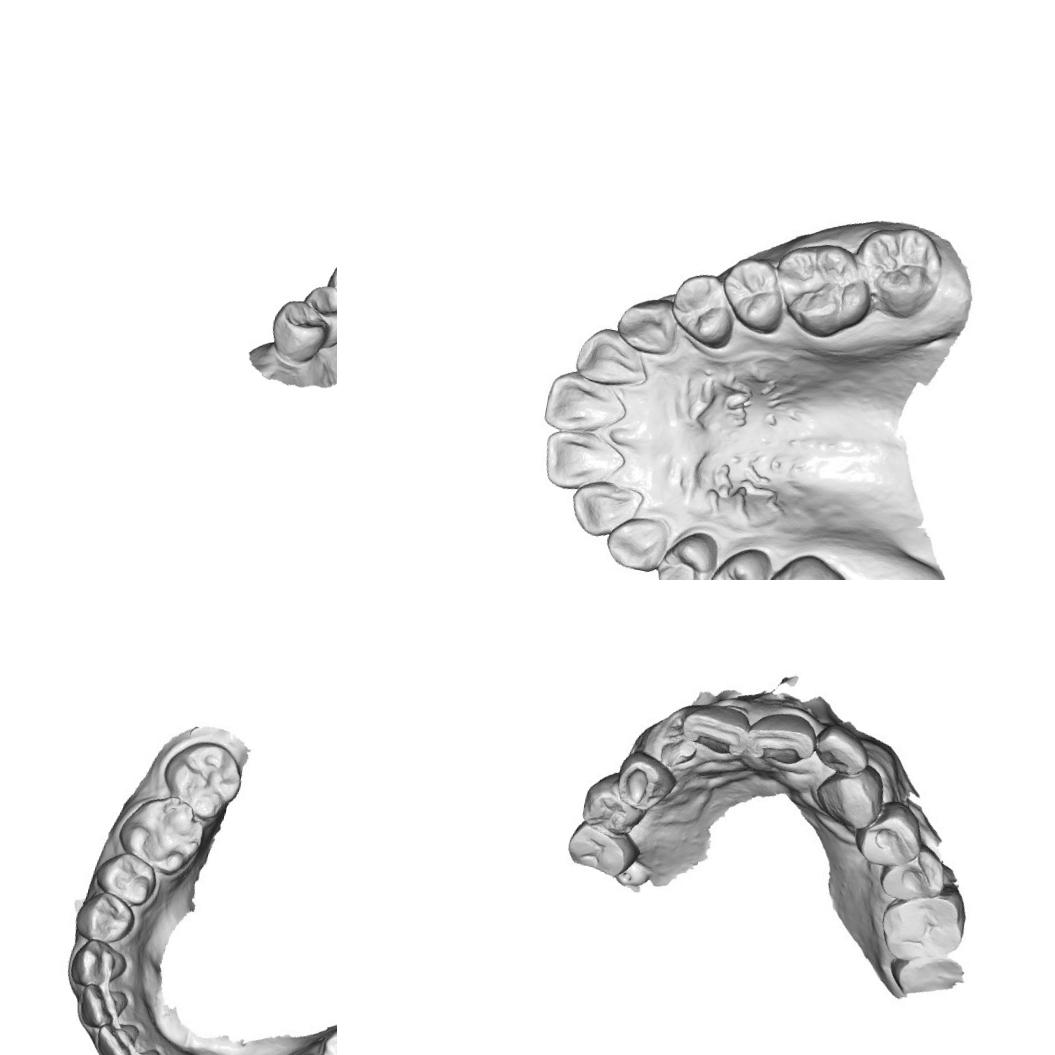canine: (813, 758, 888, 833), (601, 512, 671, 576), (614, 746, 678, 814), (619, 296, 682, 356), (64, 934, 128, 990), (322, 246, 337, 316)
incisor: (540, 426, 628, 488), (544, 376, 628, 440), (565, 478, 639, 544), (578, 333, 650, 395), (742, 708, 818, 766), (810, 721, 871, 781), (680, 704, 749, 754), (75, 979, 132, 1029), (94, 1015, 144, 1055), (120, 1043, 167, 1055)
molar: (766, 237, 868, 334), (115, 783, 208, 878), (877, 889, 971, 970), (860, 226, 945, 310), (161, 734, 244, 818)
premolar: (264, 293, 334, 368), (668, 275, 736, 346), (563, 817, 639, 880), (857, 802, 924, 868), (724, 257, 786, 328), (578, 774, 644, 839), (877, 846, 946, 902), (92, 847, 158, 905), (72, 888, 132, 948), (656, 528, 721, 580), (293, 279, 337, 353), (699, 540, 769, 580), (754, 553, 851, 580)
